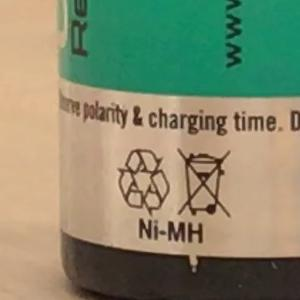keyword: (129, 212, 213, 249)
